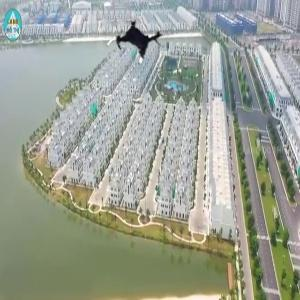drone: (106, 13, 169, 76)
